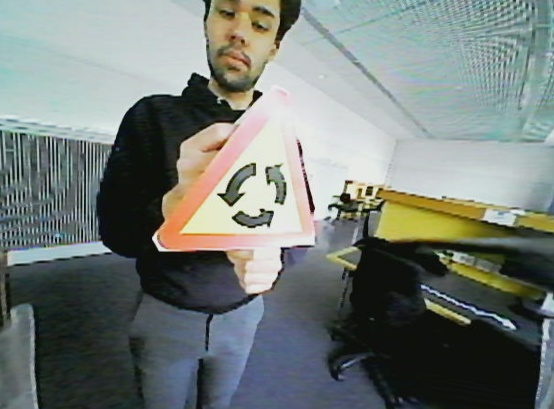roundabout_warning: (146, 82, 324, 255)
